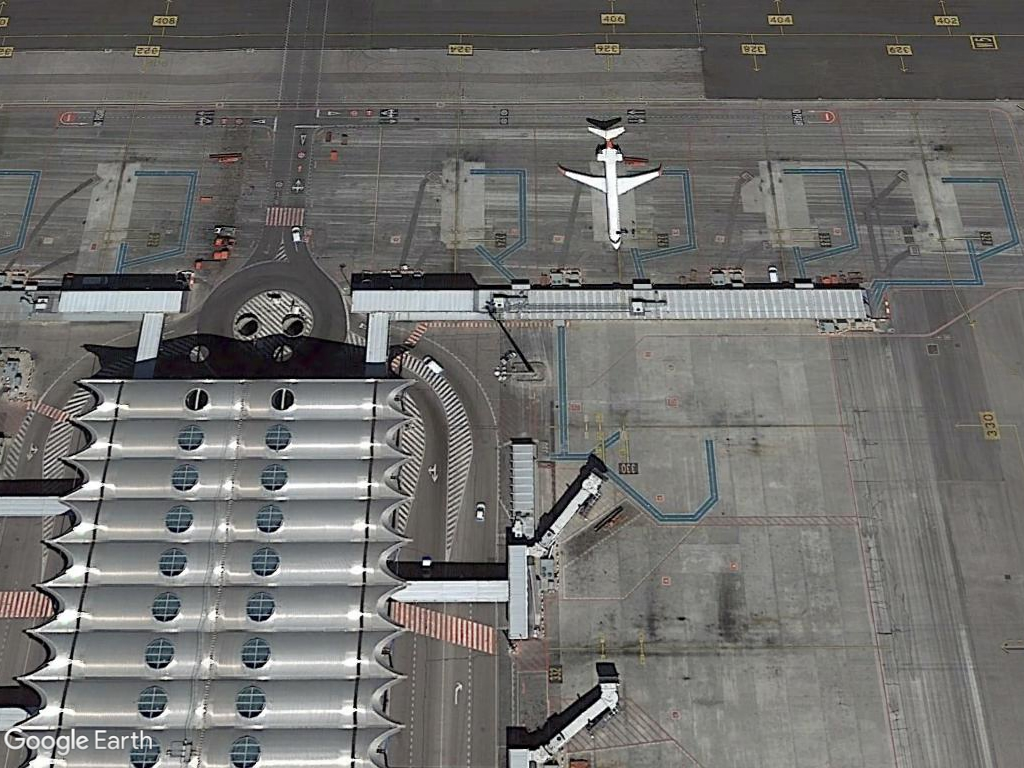car: (472, 499, 488, 527), (288, 224, 304, 246)
chartered: (550, 119, 666, 253)
van: (419, 353, 447, 376)
